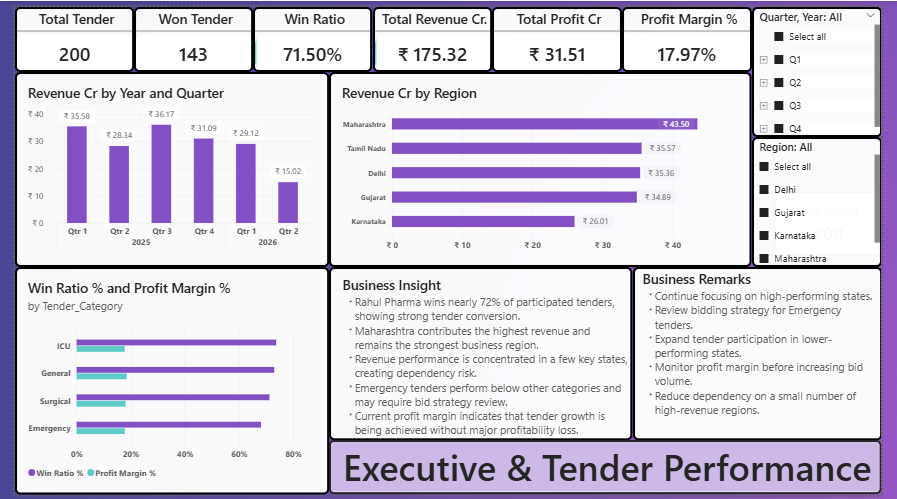

The page's visual inventory and layout, read from the dashboard file:
{"tool":"powerbi","page":{"name":"Executive & Tender Performance","canvas":[1920,1080],"ordinal":0},"visuals":[{"type":"cardVisual","fields":{"Data":["Tender_Master.Total Tender"]},"box":[1120,272,160,96],"z":0},{"type":"cardVisual","title":"Win Ratio","fields":{"Data":["Tender_Master.Win Ratio %"]},"box":[352,0,176,96],"z":1000},{"type":"cardVisual","title":"Total Profit Cr ","fields":{"Data":["Sales_Fact.Profit Cr"]},"box":[720,0,240,96],"z":2000},{"type":"cardVisual","title":"Profit Margin %","fields":{"Data":["Sales_Fact.Profit Margin %"]},"box":[960,0,216,96],"z":3000},{"type":"lineClusteredColumnComboChart","title":"Revenue Cr by Year and Quarter","fields":{"Category":["Tender_Master.Tender_Date.Variation.Date Hierarchy.Year","Tender_Master.Tender_Date.Variation.Date Hierarchy.Quarter"],"Y":["Sales_Fact.Revenue Cr"]},"box":[0,96,456,600],"z":4000},{"type":"clusteredBarChart","title":"Revenue Cr by Region","fields":{"Category":["Tender_Master.Region"],"Y":["Sales_Fact.Revenue Cr"]},"box":[456,96,1464,312],"z":5000},{"type":"clusteredBarChart","fields":{"Category":["Tender_Master.Tender_Category"],"Y":["Tender_Master.Win Ratio %","Sales_Fact.Profit Margin %"]},"box":[456,408,1464,408],"z":6000},{"type":"slicer","fields":{"Values":["Date_Table.Quarter","Date_Table.Year"]},"box":[1368,816,240,264],"z":7000},{"type":"slicer","fields":{"Values":["Tender_Master.Region"]},"box":[1608,816,312,264],"z":8000},{"type":"textbox","title":"Business Insight ","box":[456,816,912,264],"z":9000},{"type":"textbox","title":"Business Remarks","box":[0,696,456,384],"z":10000},{"type":"textbox","title":"Executive & Tender Performance","box":[1176,0,744,96],"z":12000},{"type":"cardVisual","title":"Total Tender","fields":{"Data":["Tender_Master.Total Tender"]},"box":[0,0,176,96],"z":13000},{"type":"cardVisual","title":"Won  Tender","fields":{"Data":["Tender_Master.Won Tenders"]},"box":[176,0,176,96],"z":14000},{"type":"cardVisual","title":"Total Revenue Cr. ","fields":{"Data":["Sales_Fact.Revenue Cr"]},"box":[528,0,192,96],"z":15000}]}

Visuals, with their boxes in screenshot pixels (x1, y1, x2, y2), scaled from the page's 1920x1080 canvas onto the 897x499 screenshot:
cardVisual - Tender_Master.Total Tender: select_region(523, 126, 598, 170)
"Win Ratio" cardVisual: select_region(164, 0, 247, 44)
"Total Profit Cr " cardVisual: select_region(336, 0, 448, 44)
"Profit Margin %" cardVisual: select_region(448, 0, 549, 44)
"Revenue Cr by Year and Quarter" lineClusteredColumnComboChart: select_region(0, 44, 213, 322)
"Revenue Cr by Region" clusteredBarChart: select_region(213, 44, 896, 189)
clusteredBarChart - Tender_Master.Tender_Category x Tender_Master.Win Ratio %: select_region(213, 189, 896, 377)
slicer - Date_Table.Quarter x Date_Table.Year: select_region(639, 377, 751, 498)
slicer - Tender_Master.Region: select_region(751, 377, 896, 498)
"Business Insight " textbox: select_region(213, 377, 639, 498)
"Business Remarks" textbox: select_region(0, 322, 213, 498)
"Executive & Tender Performance" textbox: select_region(549, 0, 896, 44)
"Total Tender" cardVisual: select_region(0, 0, 82, 44)
"Won  Tender" cardVisual: select_region(82, 0, 164, 44)
"Total Revenue Cr. " cardVisual: select_region(247, 0, 336, 44)
